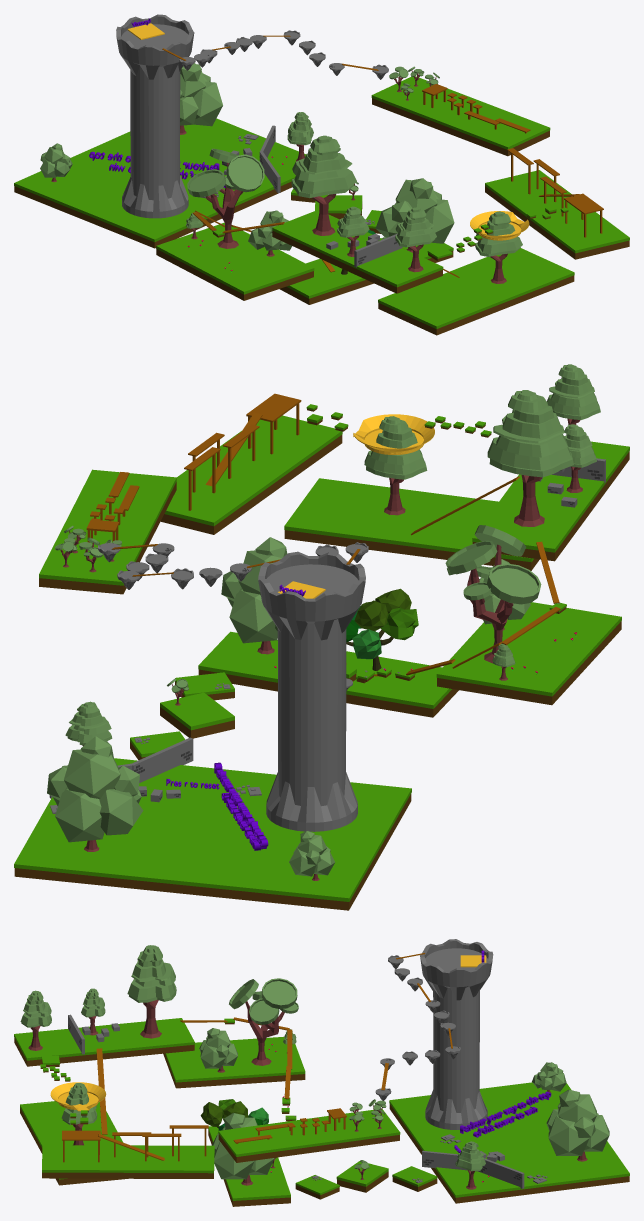
The model's file is parkour1.glb.
3 renders of one model, top to bottom at view 1: azimuth 30°, elevation 25°; view 2: azimuth 150°, elevation 25°; view 3: azimuth 270°, elevation 25°, orthographic. The views are drawn at different scales.
Parts seen in each view (by area): view 1: Cube.004, Cylinder.034, Cube.027, Cube.018, Cube.154, Cube.126, Cube.006, Plane.003, Icosphere.001, Cylinder.002, Icosphere.005, Cube.017 (+20 smaller); view 2: Cube.004, Cylinder.034, Cube.027, Cube.018, Cube.126, Cube.154, Icosphere.005, Cube.017, Cube.006, Plane.003, Cylinder.002, Cube.030 (+23 smaller); view 3: Cube.004, Cylinder.034, Cube.126, Cube.154, Cube.006, Cube.018, Icosphere.005, Cube.027, Cylinder.002, Plane.003, Icosphere.001, Cube.017 (+25 smaller).
Boxes of the visible parts, left/top/right/bottom form: Cube.004: left=14, top=118, right=305, bottom=242; Cylinder.034: left=116, top=14, right=194, bottom=218; Cube.027: left=378, top=248, right=574, bottom=328; Cube.018: left=156, top=222, right=314, bottom=294; Cube.154: left=371, top=76, right=550, bottom=149; Cube.126: left=485, top=170, right=629, bottom=253; Cube.006: left=272, top=209, right=443, bottom=287; Plane.003: left=291, top=135, right=356, bottom=198; Icosphere.001: left=375, top=178, right=454, bottom=243; Cylinder.002: left=187, top=148, right=264, bottom=197; Icosphere.005: left=180, top=63, right=222, bottom=126; Cube.017: left=286, top=238, right=453, bottom=298; Cube.004: left=14, top=758, right=411, bottom=901; Cylinder.034: left=258, top=551, right=365, bottom=831; Cube.027: left=284, top=478, right=533, bottom=562; Cube.018: left=436, top=602, right=621, bottom=696; Cube.126: left=164, top=415, right=342, bottom=526; Cube.154: left=39, top=469, right=176, bottom=585; Icosphere.005: left=47, top=736, right=143, bottom=842; Cube.017: left=198, top=631, right=451, bottom=708; Cube.006: left=472, top=441, right=629, bottom=552; Plane.003: left=487, top=390, right=573, bottom=477; Cylinder.002: left=445, top=525, right=541, bottom=604; Cube.030: left=14, top=794, right=411, bottom=910; Cube.004: left=389, top=1082, right=629, bottom=1197; Cylinder.034: left=420, top=939, right=493, bottom=1129; Cube.126: left=42, top=1145, right=214, bottom=1173; Cube.154: left=218, top=1109, right=400, bottom=1156; Cube.006: left=14, top=1018, right=194, bottom=1060; Cube.018: left=165, top=1036, right=305, bottom=1082; Icosphere.005: left=546, top=1089, right=609, bottom=1155; Cube.027: left=20, top=1101, right=123, bottom=1179; Cylinder.002: left=229, top=978, right=298, bottom=1024; Plane.003: left=127, top=945, right=176, bottom=1002; Icosphere.001: left=212, top=1113, right=274, bottom=1179; Cube.017: left=208, top=1125, right=290, bottom=1200.
Size of the model in its own units: 339 by 172 by 530.
